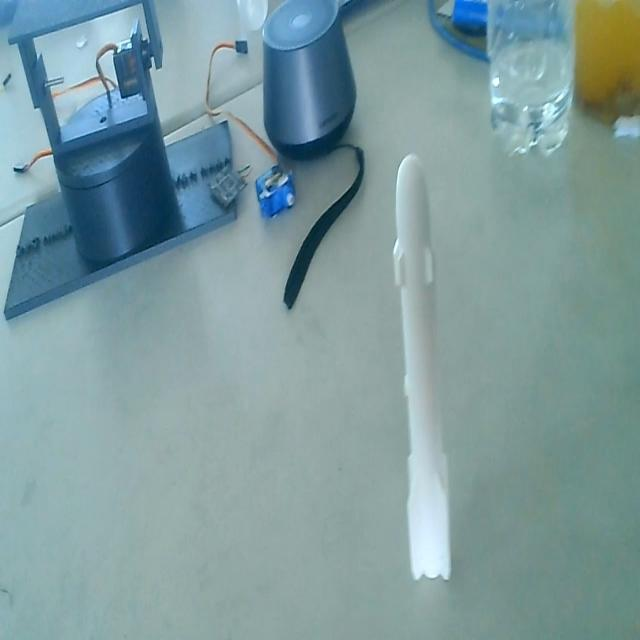Rocket: (392, 147, 454, 589)
